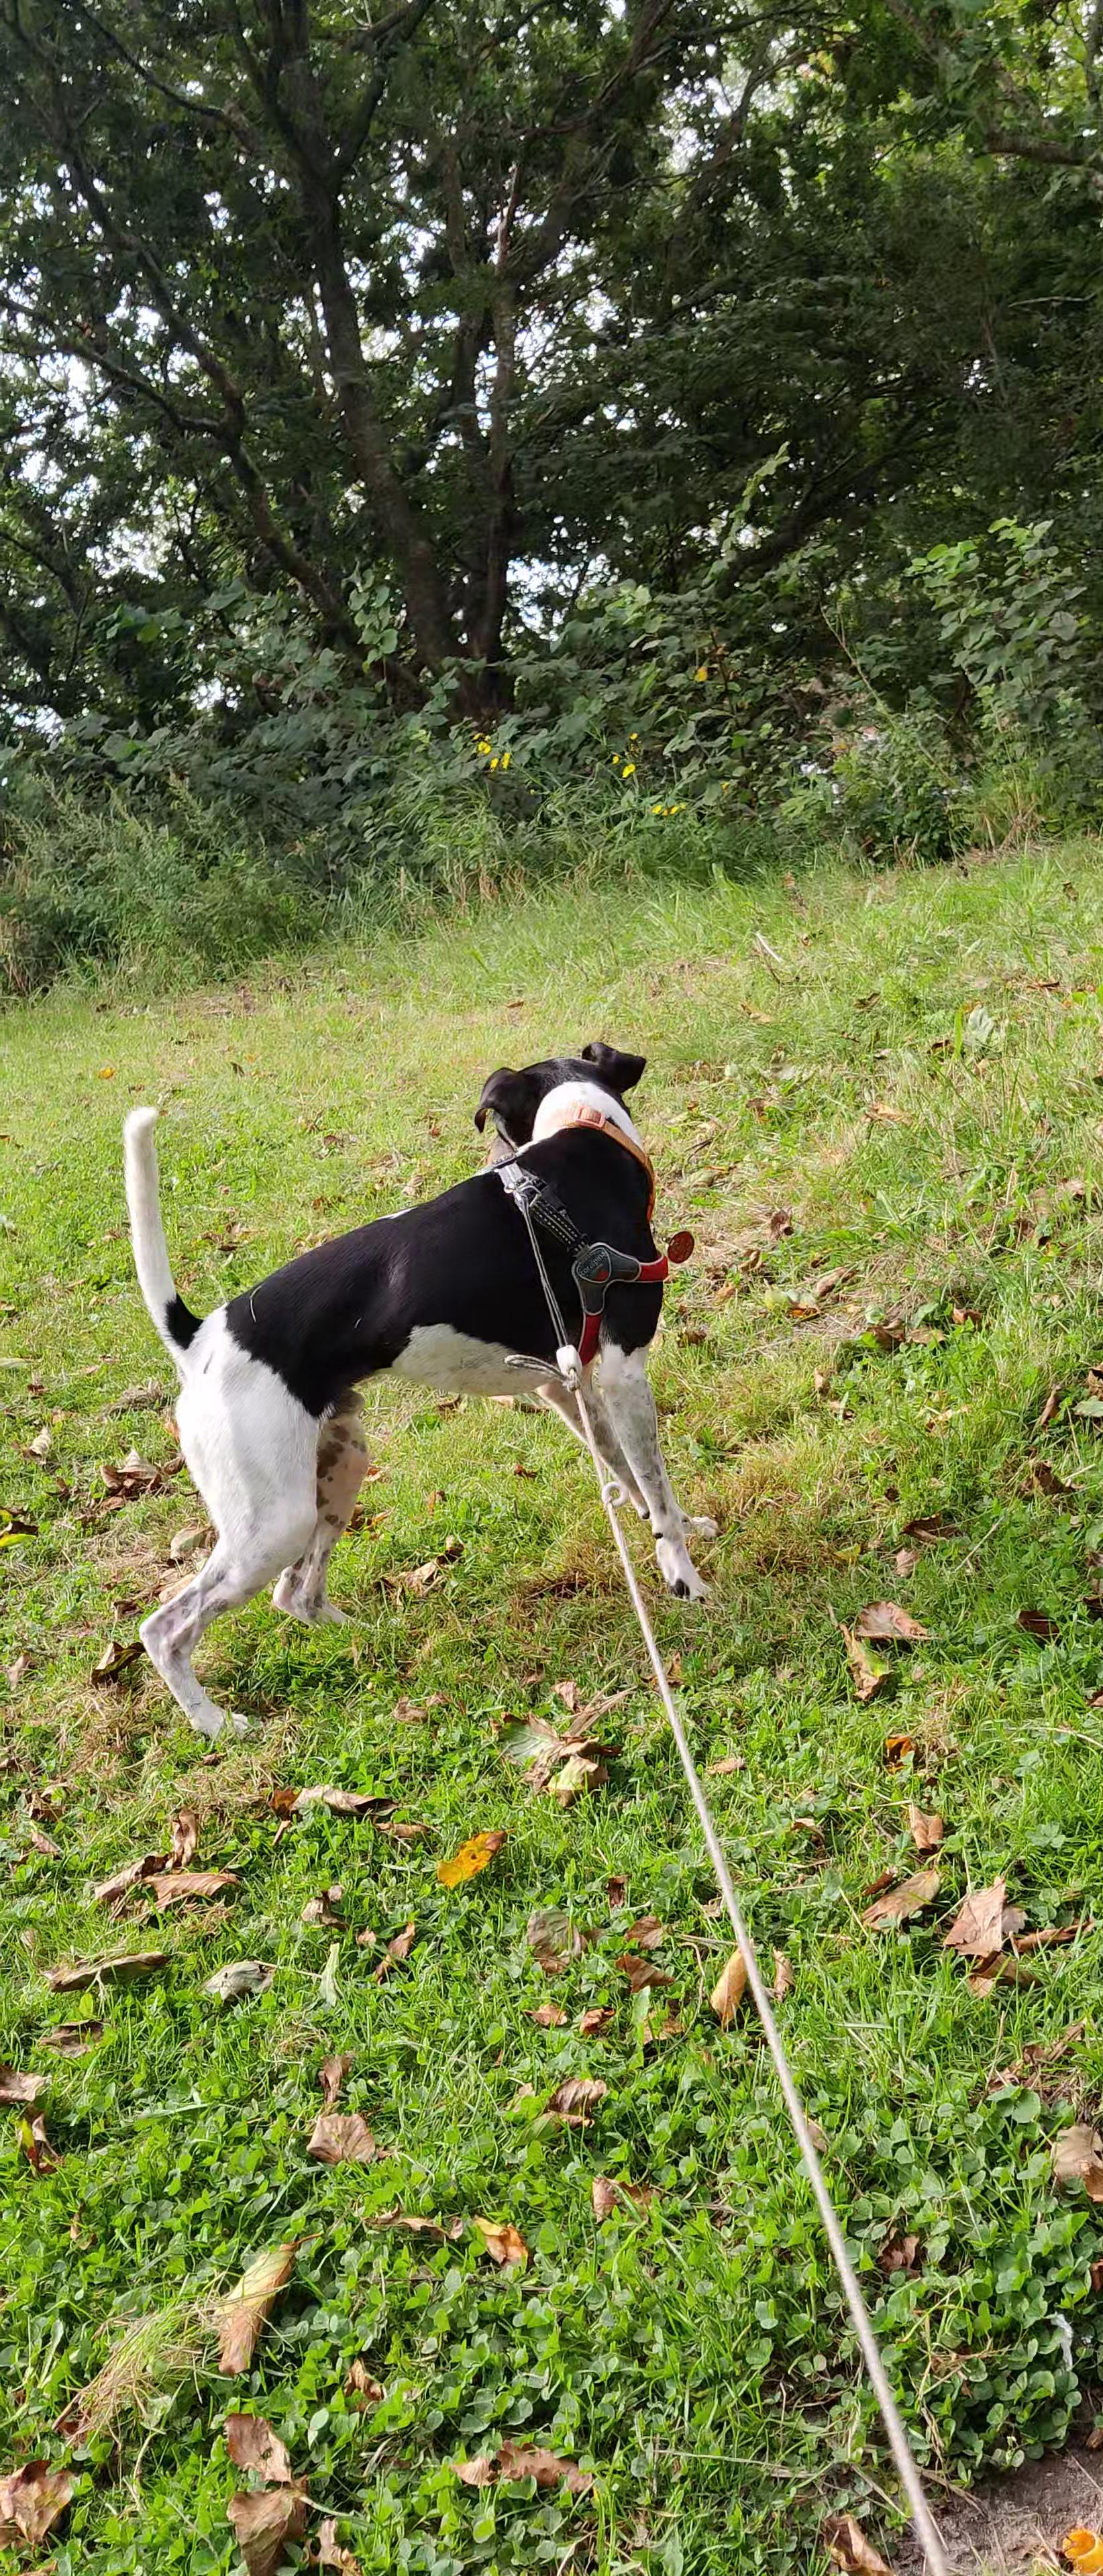Dog: (117, 1040, 727, 1751)
